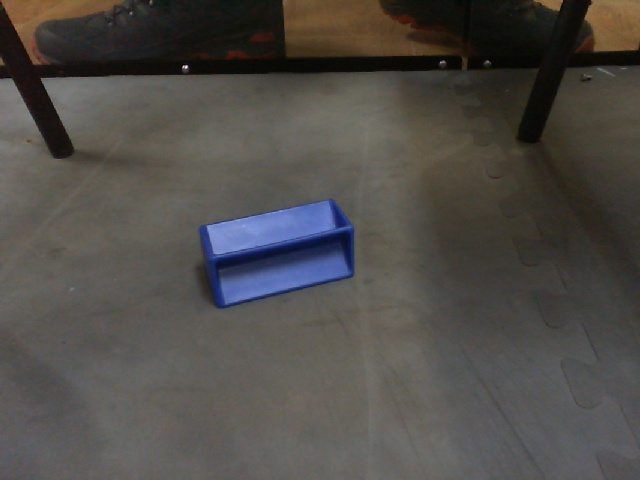BlueSample: (189, 193, 360, 308)
